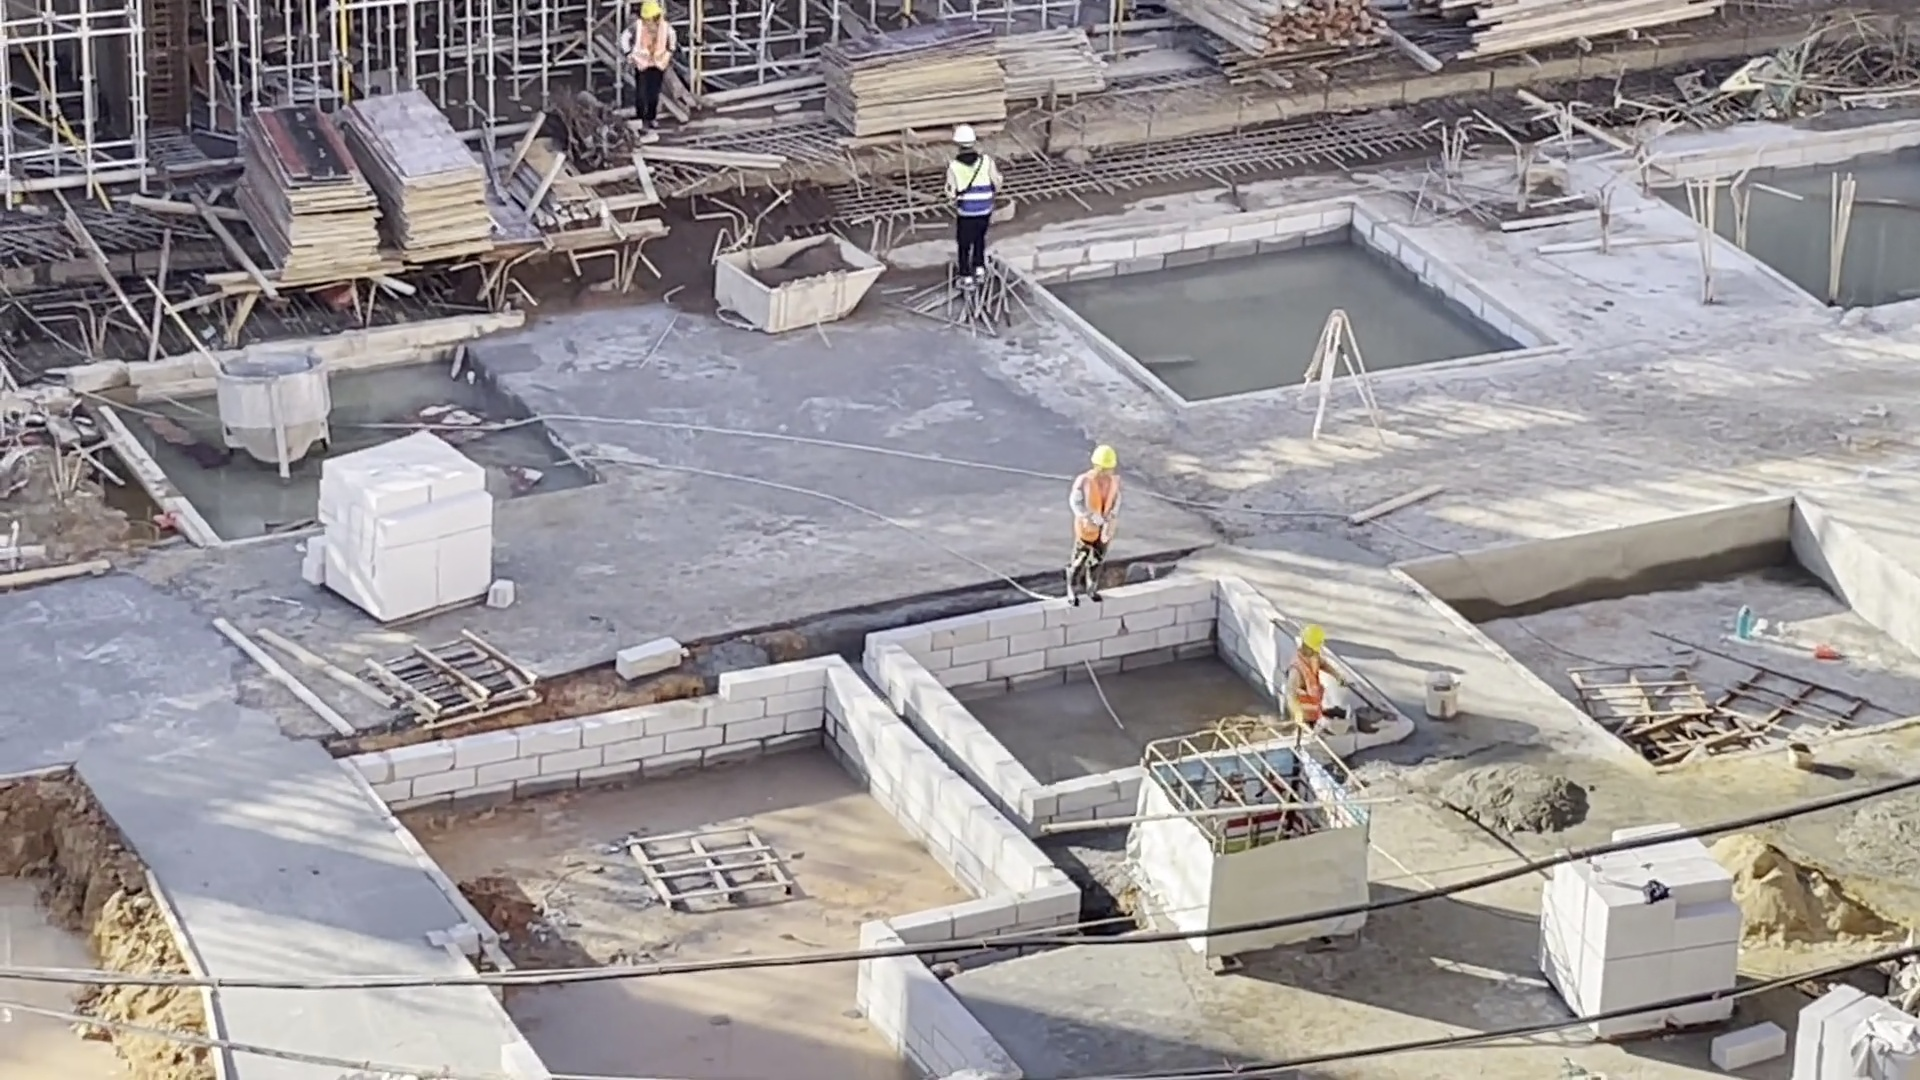board: (226, 104, 391, 287), (345, 86, 501, 267), (818, 20, 1012, 146)
brick: (312, 424, 495, 620), (1535, 876, 1743, 998), (1788, 980, 1916, 1080)
helmet: (1298, 623, 1328, 652), (1090, 445, 1119, 469), (635, 1, 664, 22), (949, 125, 978, 145)
hopper: (706, 234, 884, 337), (208, 349, 329, 479)
person: (939, 124, 1003, 292), (1069, 441, 1123, 612), (615, 1, 675, 127), (1277, 620, 1336, 732)
vest: (945, 155, 996, 219), (1077, 472, 1119, 542), (628, 18, 671, 72), (1287, 659, 1326, 718)
wood: (1428, 1, 1726, 60), (1166, 1, 1392, 57)
